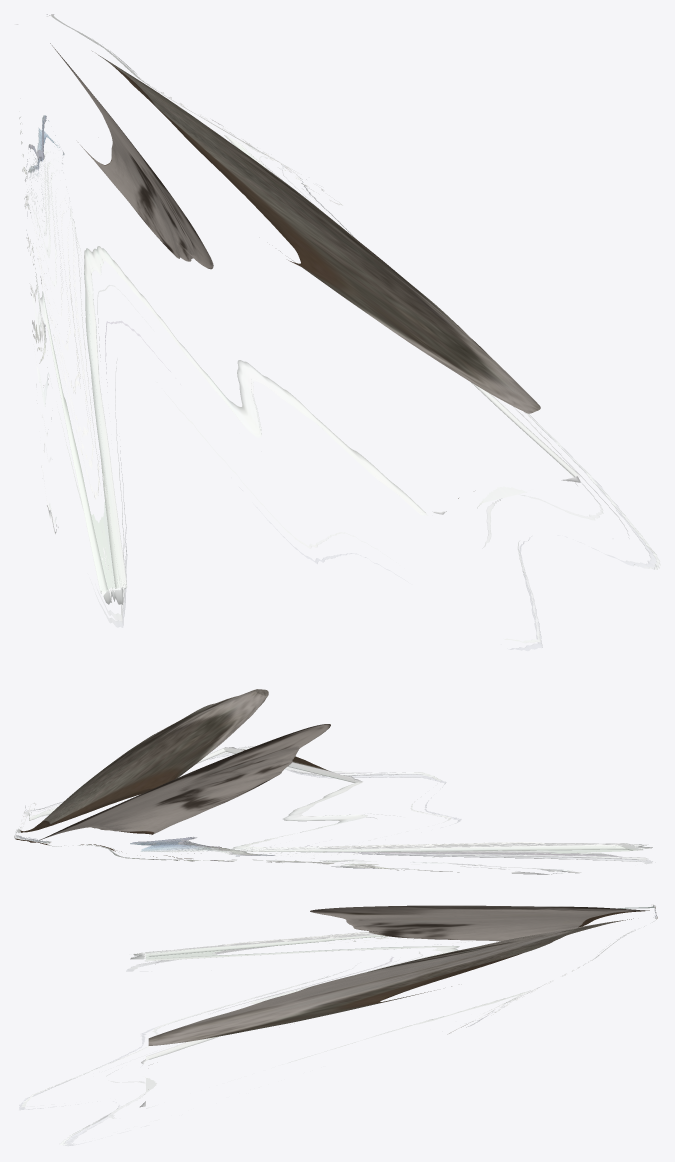
File: earliest-colonial-accounts-b64975f61258.glb
The picture shows the model from 3 angles, top to bottom: view 1: azimuth 30°, elevation 25°; view 2: azimuth 150°, elevation 25°; view 3: azimuth 270°, elevation 25°; orthographic projection. The views are drawn at different scales.
Visible parts, largest first — view 1: mesh0; view 2: mesh0; view 3: mesh0.
Boxes of the visible parts, bbox=[...] form: mesh0: bbox=[15, 14, 660, 651]; mesh0: bbox=[14, 689, 653, 874]; mesh0: bbox=[19, 904, 657, 1146].
Size of the model in its own units: 14.55 by 7.99 by 24.14.
1 material, 1 textured.
